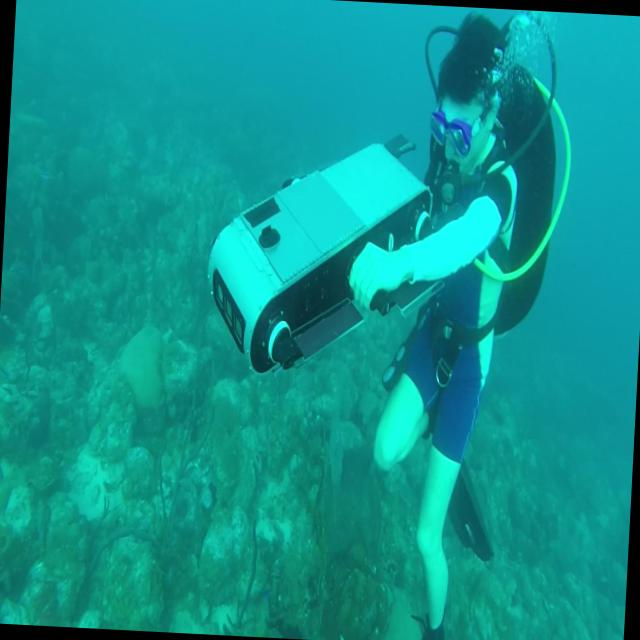human: (327, 3, 578, 640), (202, 126, 441, 384)
